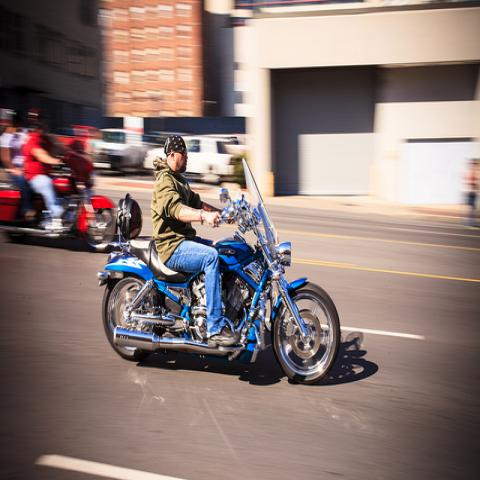car: (142, 139, 244, 182), (85, 128, 167, 168)
motorcycle: (100, 152, 340, 390), (0, 144, 117, 252)
